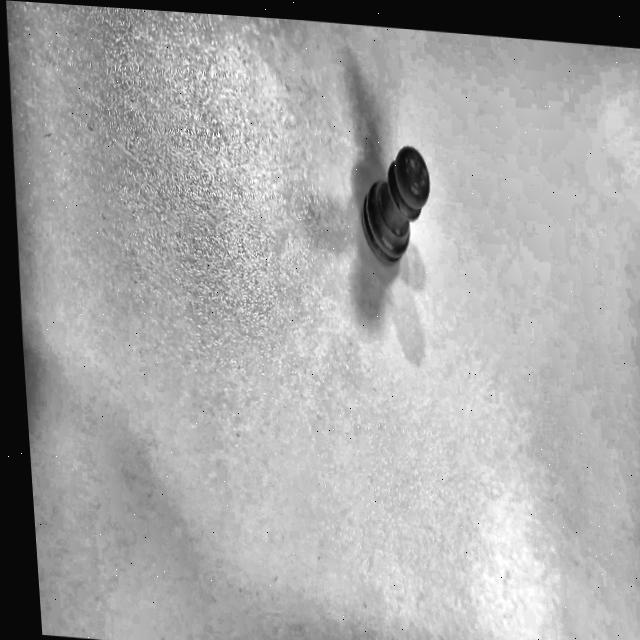black-pawn: (352, 136, 439, 277)
